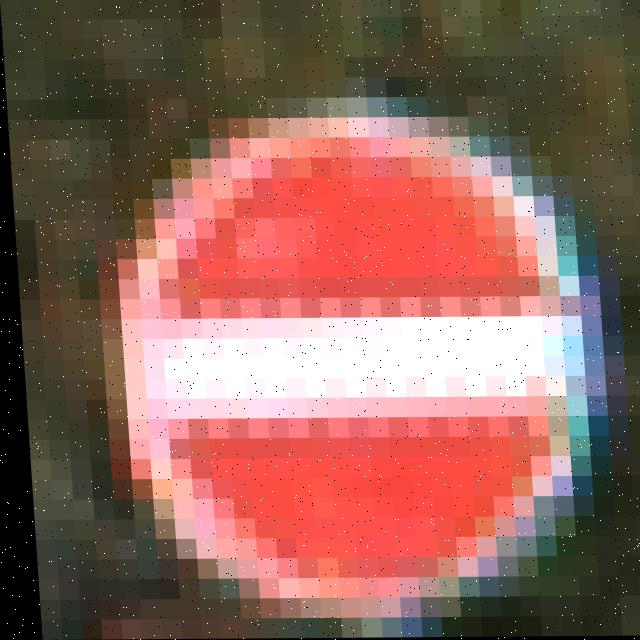road_rough: (103, 38, 626, 618)
